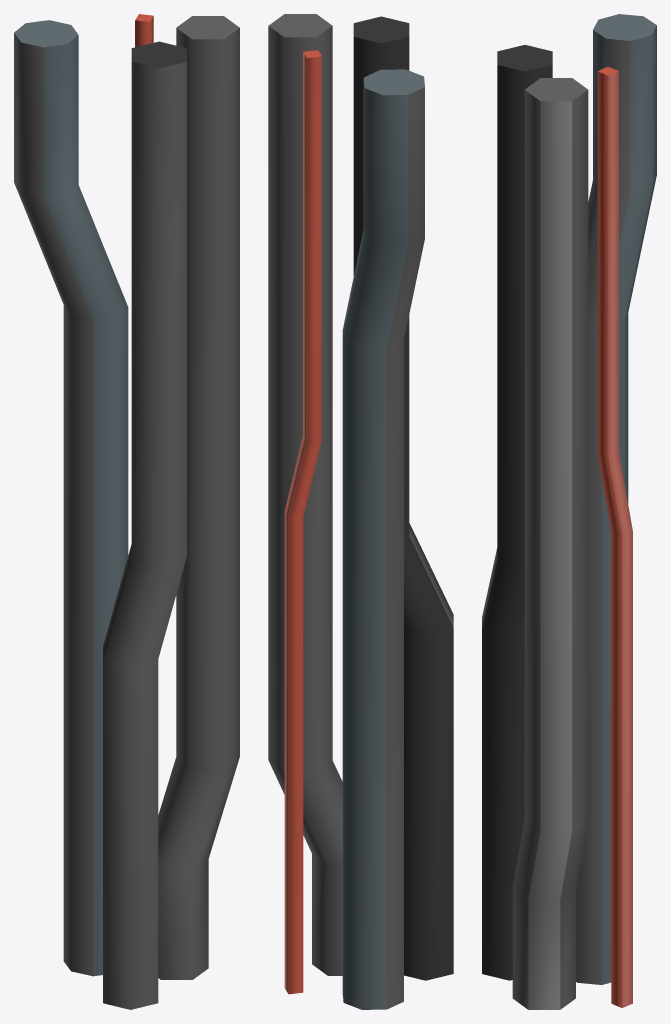
File: SciFi_Pipes_Pillar.fbx
3 renders of one model, left to right at view 1: azimuth 30°, elevation 25°; view 2: azimuth 150°, elevation 25°; view 3: azimuth 270°, elevation 25°, orthographic.
Visible parts, largest first — view 1: SciFi_Pipes_Pillar; view 2: SciFi_Pipes_Pillar; view 3: SciFi_Pipes_Pillar.
Boxes of the visible parts, x1,y1,x2,y2 form: SciFi_Pipes_Pillar: (14,14,239,1009); SciFi_Pipes_Pillar: (268,14,453,1009); SciFi_Pipes_Pillar: (482,14,656,1009).
Size of the model in its own units: 75.03 by 371 by 63.48.
